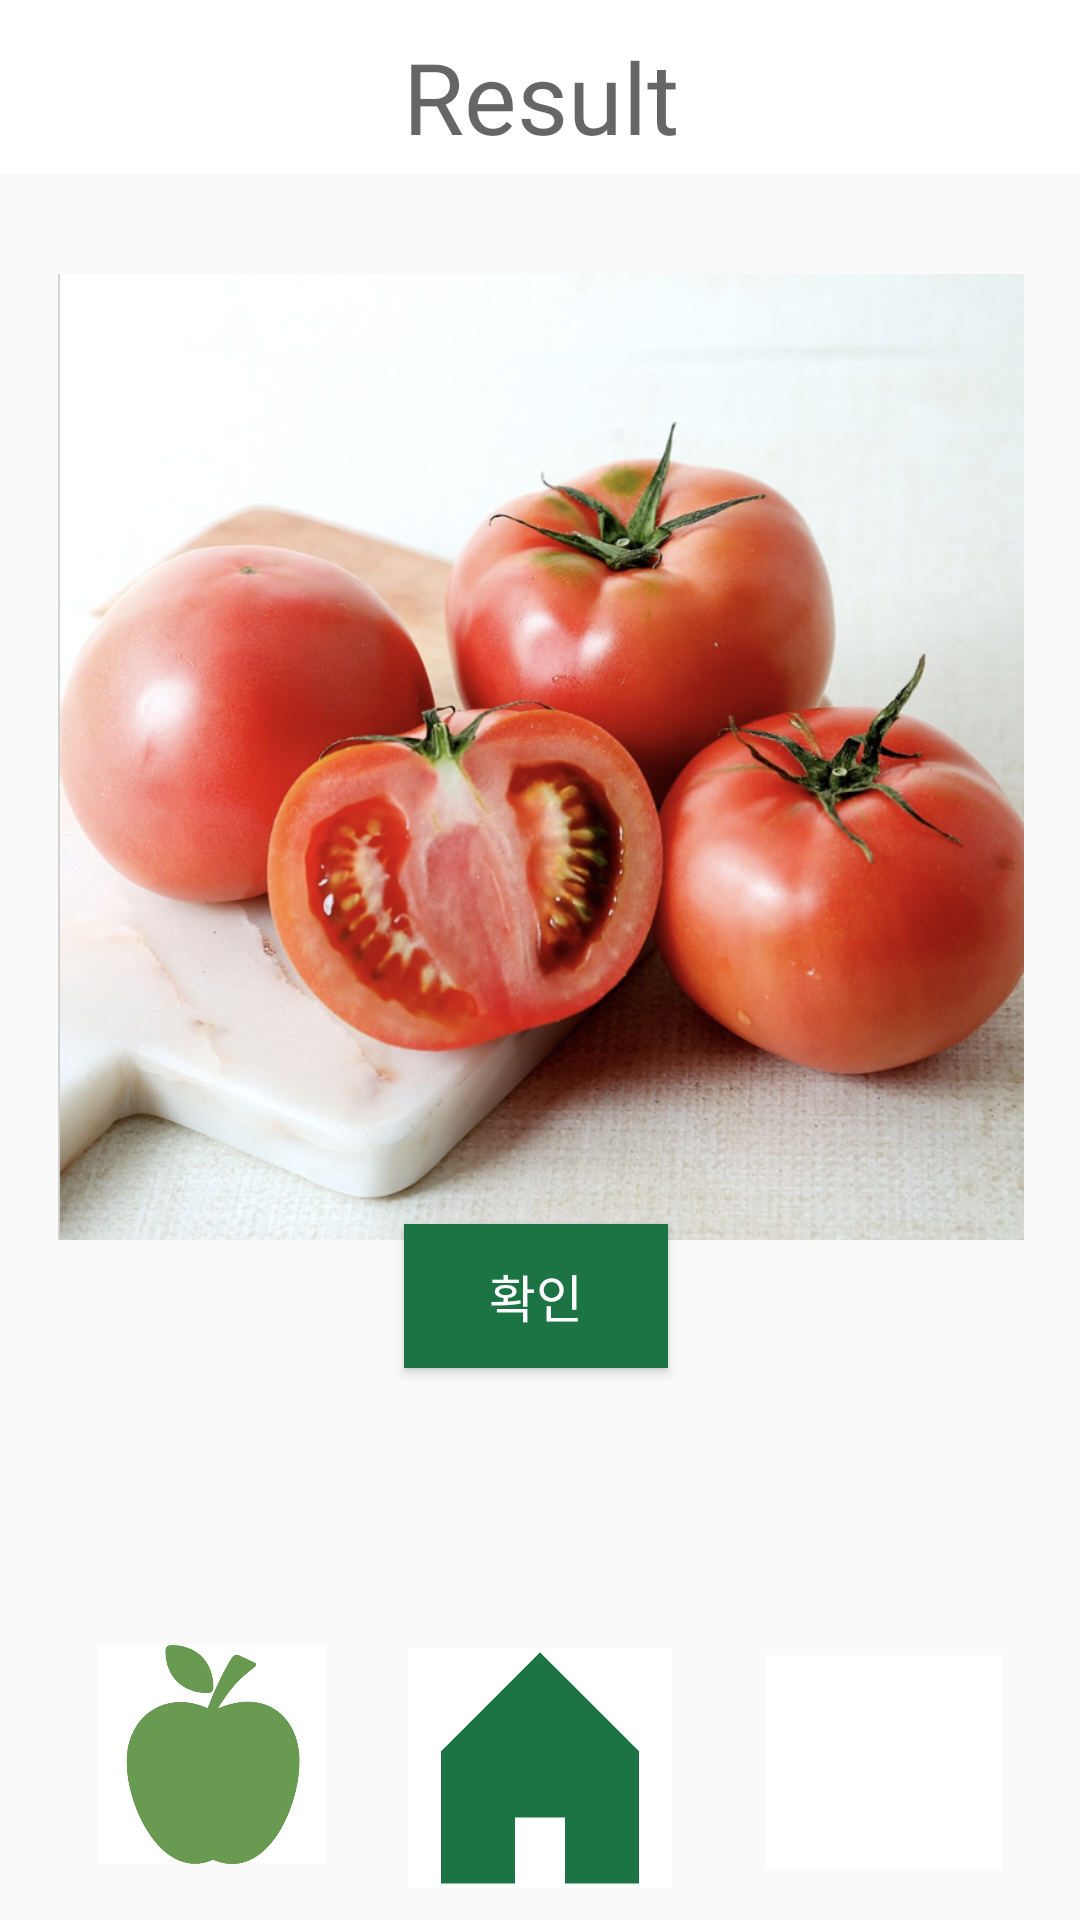

Icon click points for this 1080w x 1920h phone screenshot, format [x,y]:
homebutton: [540,1768]
